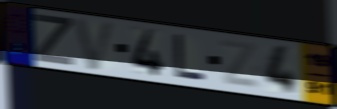4: (263, 43, 302, 97), (130, 27, 165, 79)
L: (172, 32, 208, 82)
V: (71, 16, 118, 72)
Z: (32, 12, 76, 68), (218, 38, 261, 91)
